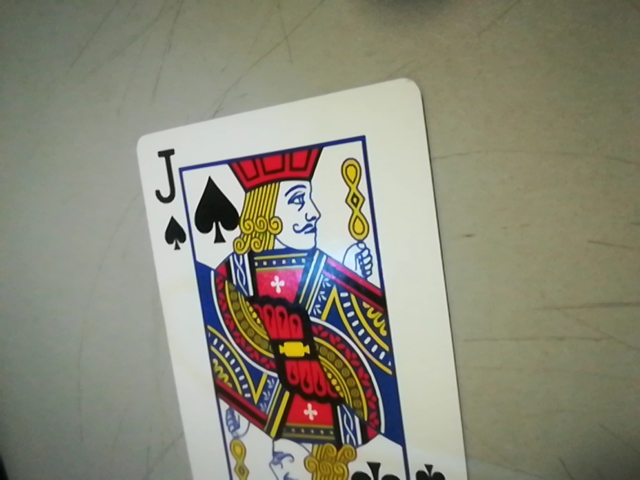ht j: (140, 139, 190, 256)
